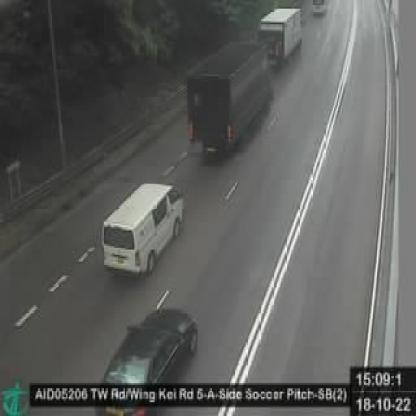Car: (89, 305, 198, 416), (100, 181, 186, 281), (309, 0, 328, 19)
Truck: (184, 37, 275, 165), (259, 5, 305, 66)
